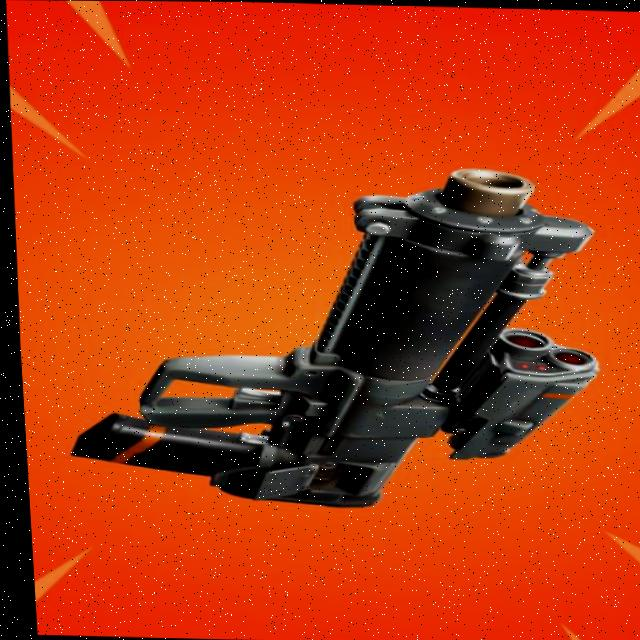firearm: (50, 157, 610, 511)
